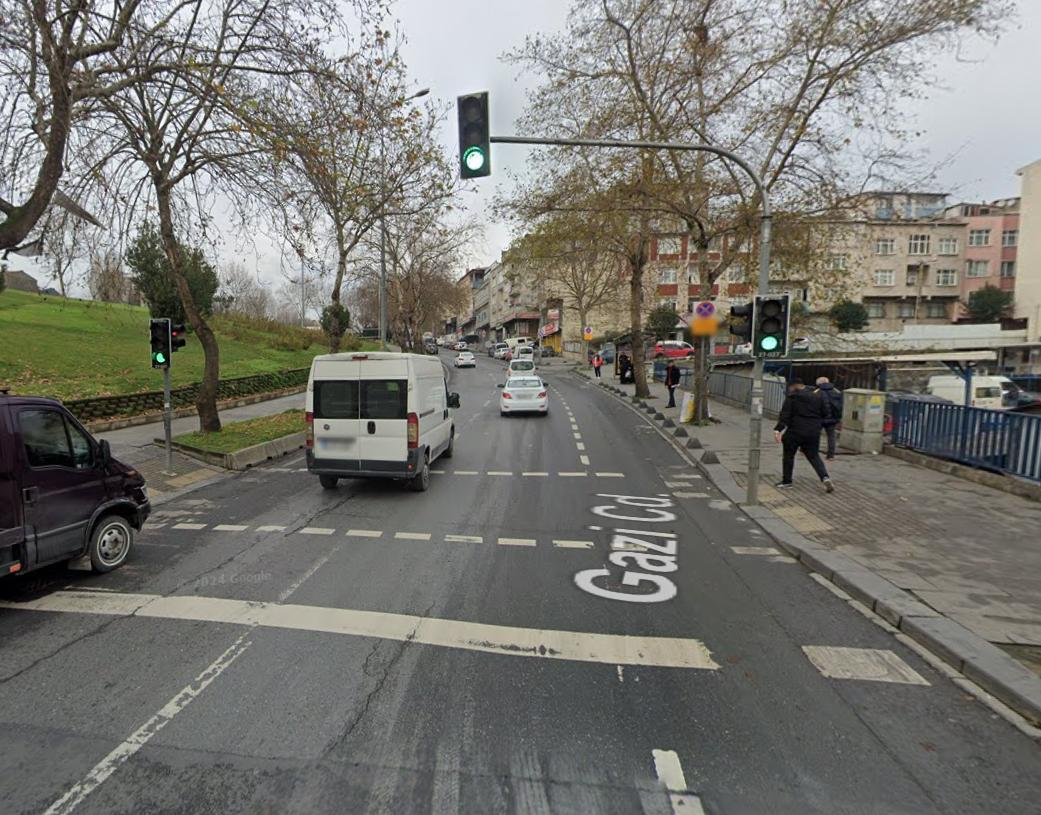greenlight: (458, 93, 488, 173), (755, 297, 782, 352), (151, 319, 169, 367)
